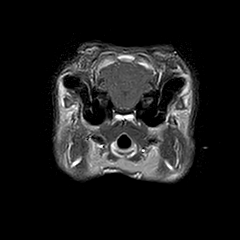Brain: (77, 33, 176, 131)
